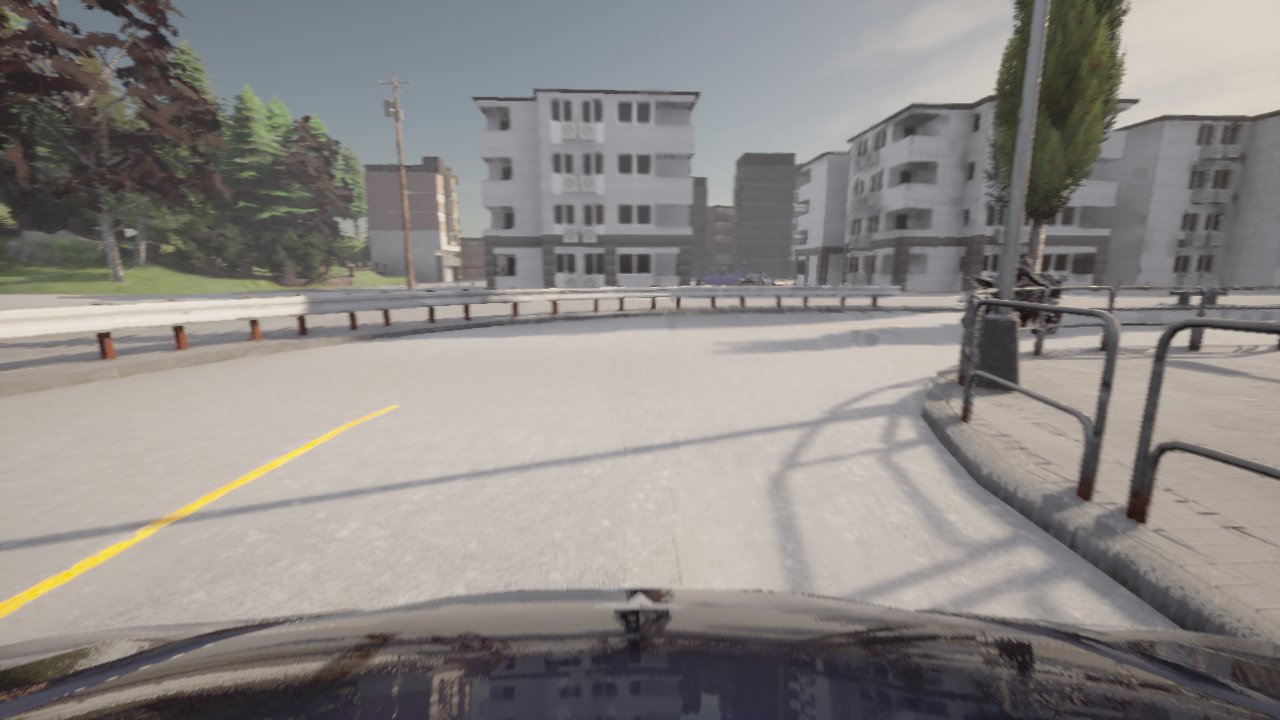cyclist: (0, 588, 1279, 719), (958, 273, 1067, 335), (695, 268, 742, 285), (736, 271, 774, 285), (737, 279, 761, 280)
